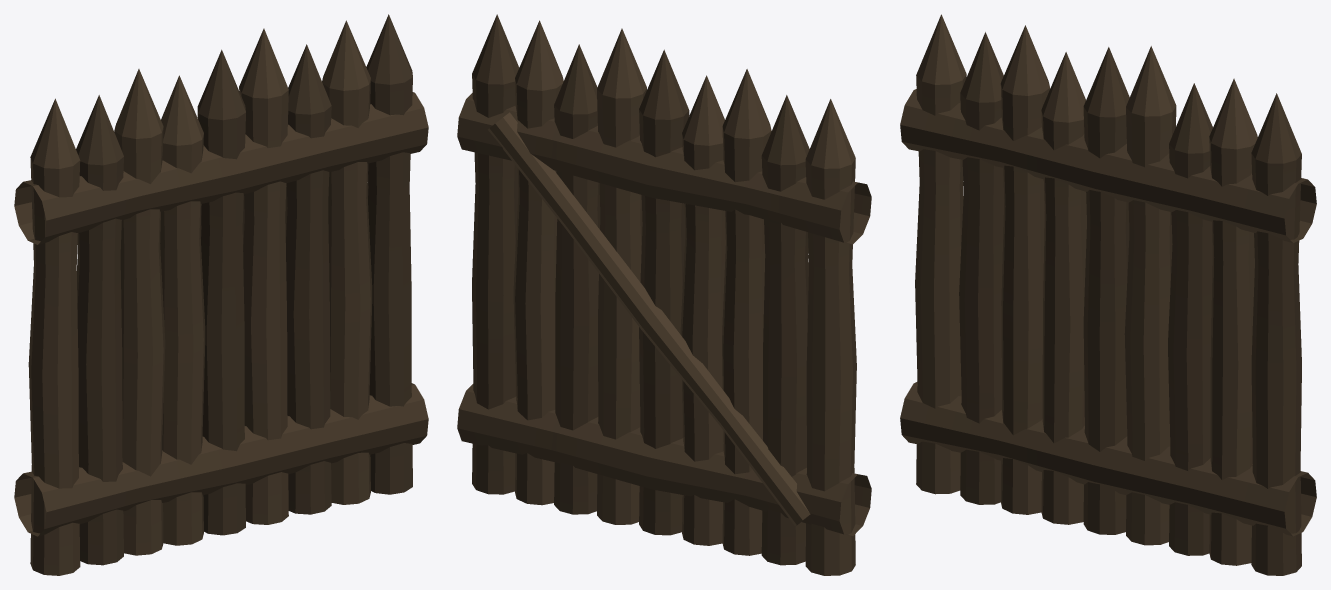
Rendered from Wall_V1.fbx.
3 renders of one model, left to right at view 1: azimuth 30°, elevation 25°; view 2: azimuth 150°, elevation 25°; view 3: azimuth 330°, elevation 25°, orthographic.
Parts seen in each view (by area): view 1: pCylinder19, pCylinder25, pCylinder26, pCylinder17, pCylinder15, pCylinder18, pCylinder16, pCylinder20, pCylinder24, pCylinder21, pCylinder14; view 2: pCylinder19, pCylinder25, pCylinder26, pCylinder21, pCylinder18, pCylinder15, pCylinder24, pCylinder17, pCylinder16, pCylinder20, pCylinder14, pCylinder27; view 3: pCylinder21, pCylinder25, pCylinder26, pCylinder17, pCylinder19, pCylinder15, pCylinder16, pCylinder24, pCylinder14, pCylinder18, pCylinder20.
Part boxes in pixels (<box>): pCylinder19: <box>28,98,80,575</box>; pCylinder25: <box>14,92,428,244</box>; pCylinder26: <box>14,383,428,536</box>; pCylinder17: <box>239,28,288,524</box>; pCylinder15: <box>114,69,165,555</box>; pCylinder18: <box>76,95,123,565</box>; pCylinder16: <box>197,49,245,535</box>; pCylinder20: <box>285,44,331,514</box>; pCylinder24: <box>322,20,372,504</box>; pCylinder21: <box>366,14,412,494</box>; pCylinder14: <box>160,75,205,545</box>; pCylinder19: <box>805,99,856,575</box>; pCylinder25: <box>457,93,871,244</box>; pCylinder26: <box>457,384,871,535</box>; pCylinder21: <box>472,14,519,494</box>; pCylinder18: <box>761,95,809,565</box>; pCylinder15: <box>722,69,771,555</box>; pCylinder24: <box>513,20,563,505</box>; pCylinder17: <box>597,28,646,524</box>; pCylinder16: <box>639,49,689,535</box>; pCylinder20: <box>554,44,600,514</box>; pCylinder14: <box>680,75,725,545</box>; pCylinder27: <box>488,112,810,526</box>; pCylinder21: <box>1251,93,1301,575</box>; pCylinder25: <box>900,89,1316,242</box>; pCylinder26: <box>900,382,1316,536</box>; pCylinder17: <box>1124,46,1176,545</box>; pCylinder19: <box>915,14,966,494</box>; pCylinder15: <box>1000,25,1050,514</box>; pCylinder16: <box>1083,47,1129,534</box>; pCylinder24: <box>1209,78,1257,565</box>; pCylinder14: <box>1041,52,1086,524</box>; pCylinder18: <box>959,32,1004,504</box>; pCylinder20: <box>1168,83,1212,555</box>.
Size of the model in its own units: 36.5 by 44.4 by 5.72.
